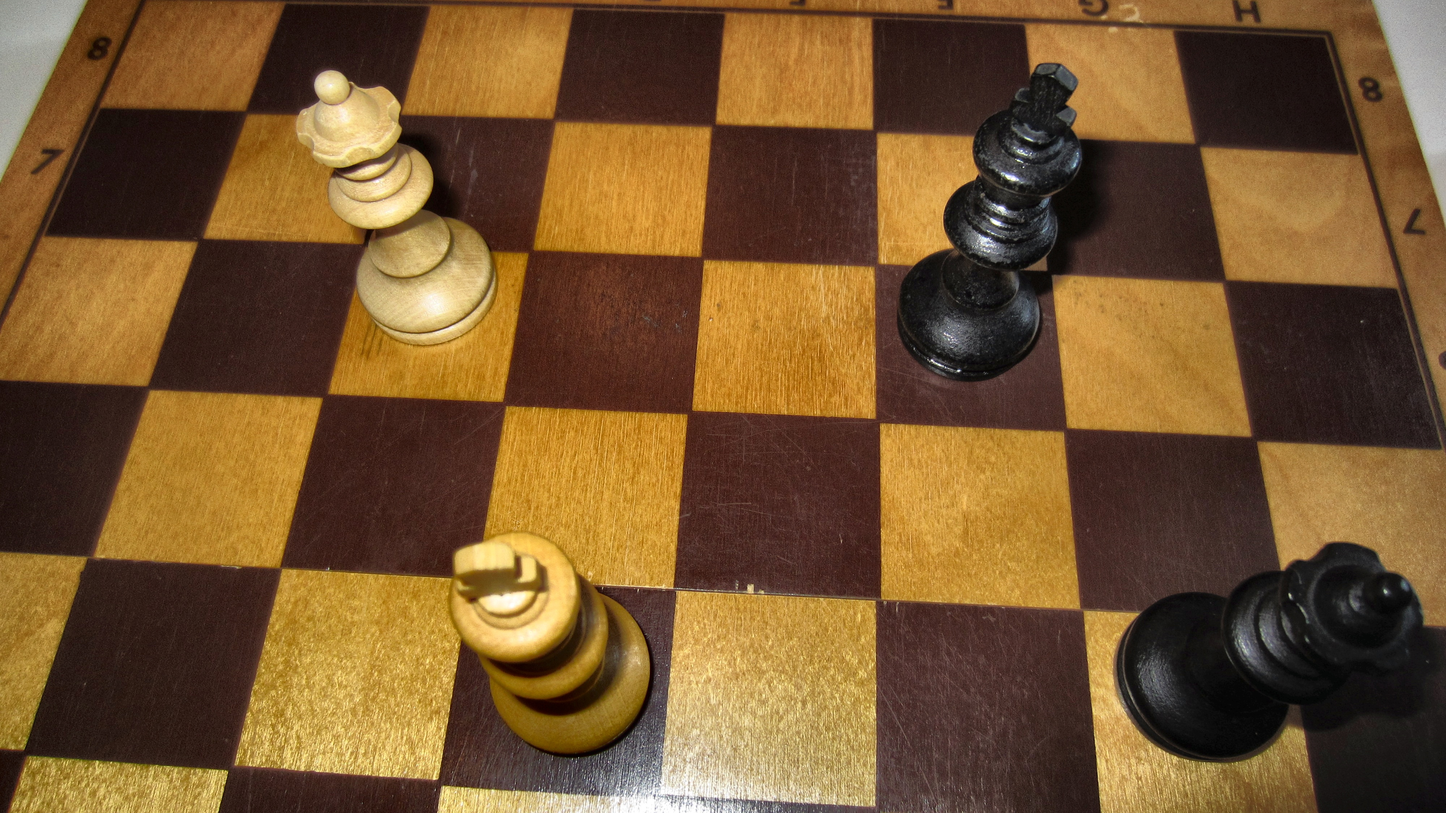black-king: (896, 62, 1086, 382)
black-queen: (1111, 539, 1427, 763)
white-king: (446, 530, 654, 759)
white-queen: (294, 67, 501, 346)
